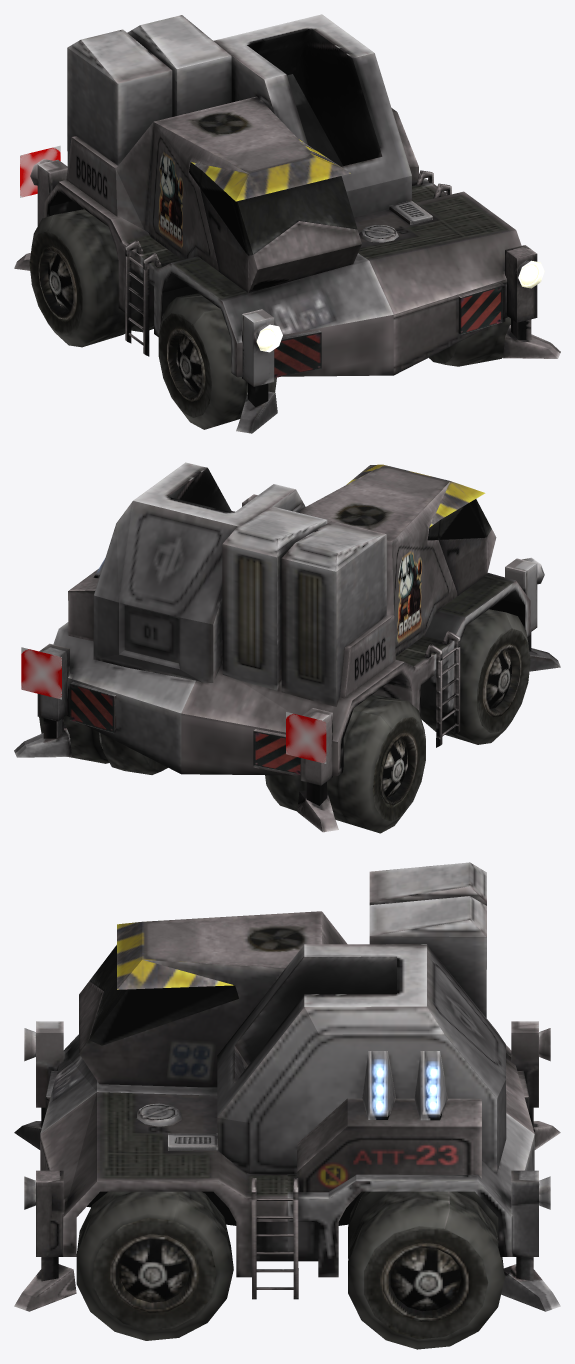
The model's file is miningMachineJoined.fbx.
3 views of the same model, one above another, from view 1: azimuth 30°, elevation 25°; view 2: azimuth 150°, elevation 25°; view 3: azimuth 270°, elevation 25° (orthographic). The views are drawn at different scales.
Visible parts, largest first — view 1: HeavyMachinery; view 2: HeavyMachinery; view 3: HeavyMachinery.
Part boxes in pixels (left/top/right/bottom): HeavyMachinery: left=14, top=14, right=560, bottom=433; HeavyMachinery: left=14, top=462, right=560, bottom=833; HeavyMachinery: left=14, top=862, right=560, bottom=1349.
Bounding box in the file's own units: 252 × 201 × 306.
